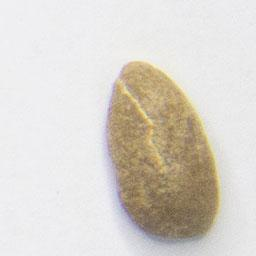longberry: (101, 57, 225, 245)
